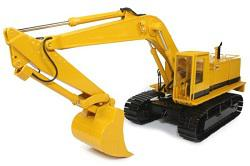backhoe: (1, 9, 244, 158)
